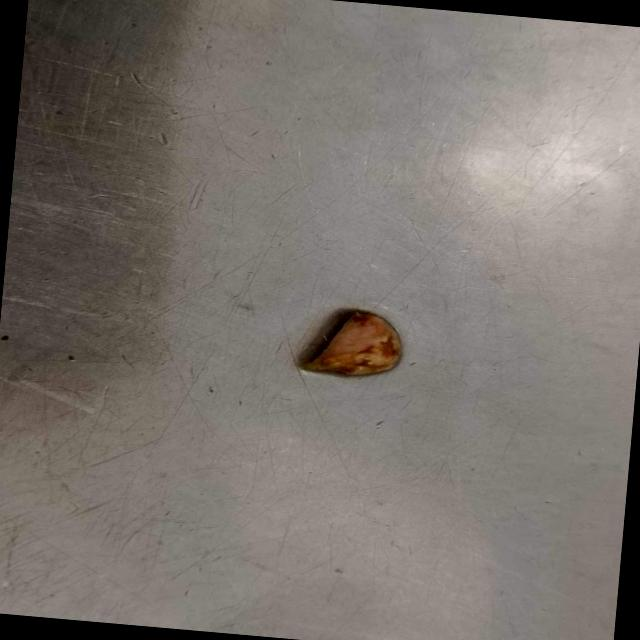General: (0, 0, 639, 639)
Infectious: (301, 308, 402, 377)
